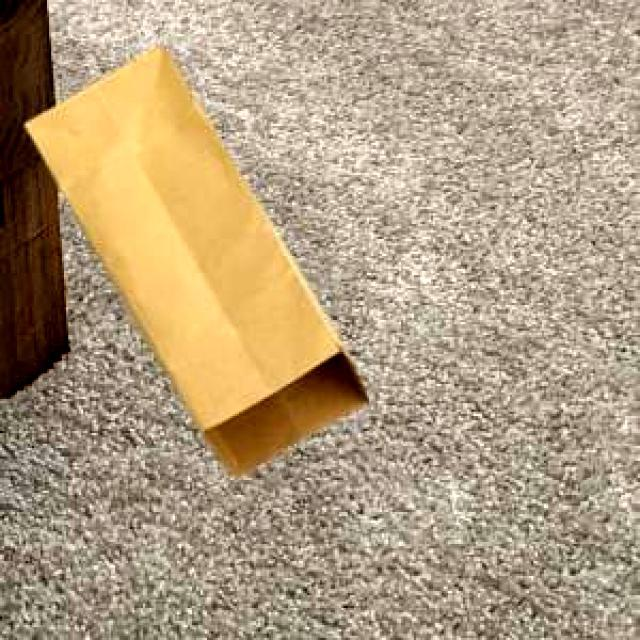Paper_Bag: (22, 43, 364, 474)
